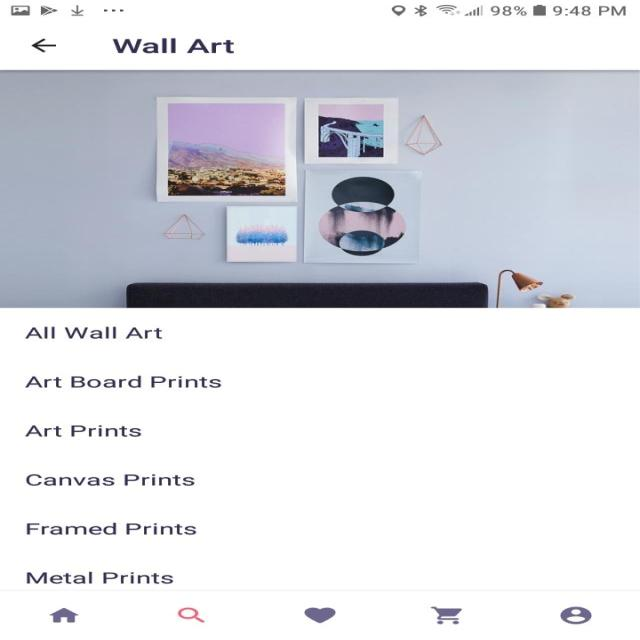Icon: (559, 606, 591, 624), (431, 606, 462, 624), (304, 606, 336, 623), (48, 608, 78, 622), (178, 606, 204, 622), (30, 38, 56, 53)
Image: (0, 70, 639, 308)
Text: (25, 375, 222, 388), (25, 522, 196, 535), (26, 473, 194, 486), (25, 571, 174, 584), (112, 38, 234, 53), (25, 326, 163, 339), (26, 425, 142, 437)
